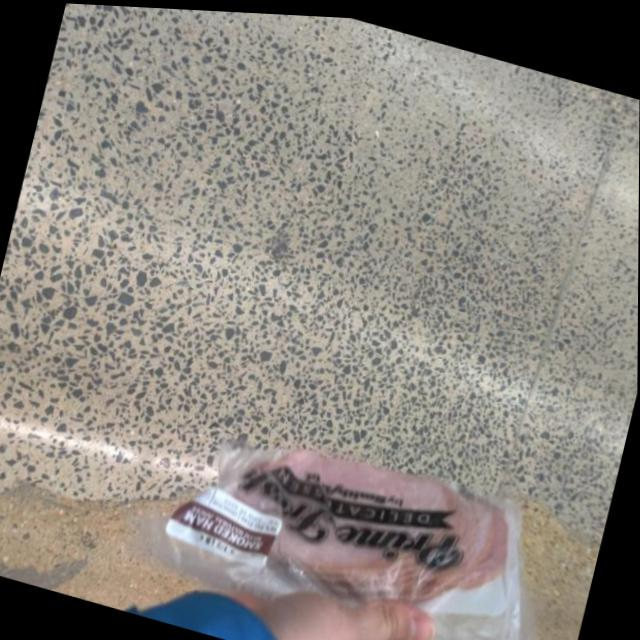Meat: (145, 395, 563, 640)
